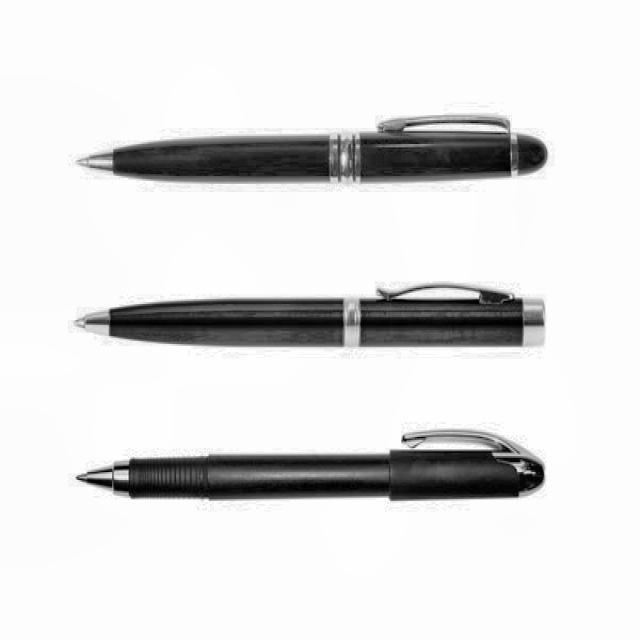Pen: (62, 100, 549, 210), (70, 418, 550, 528), (70, 270, 552, 376)
